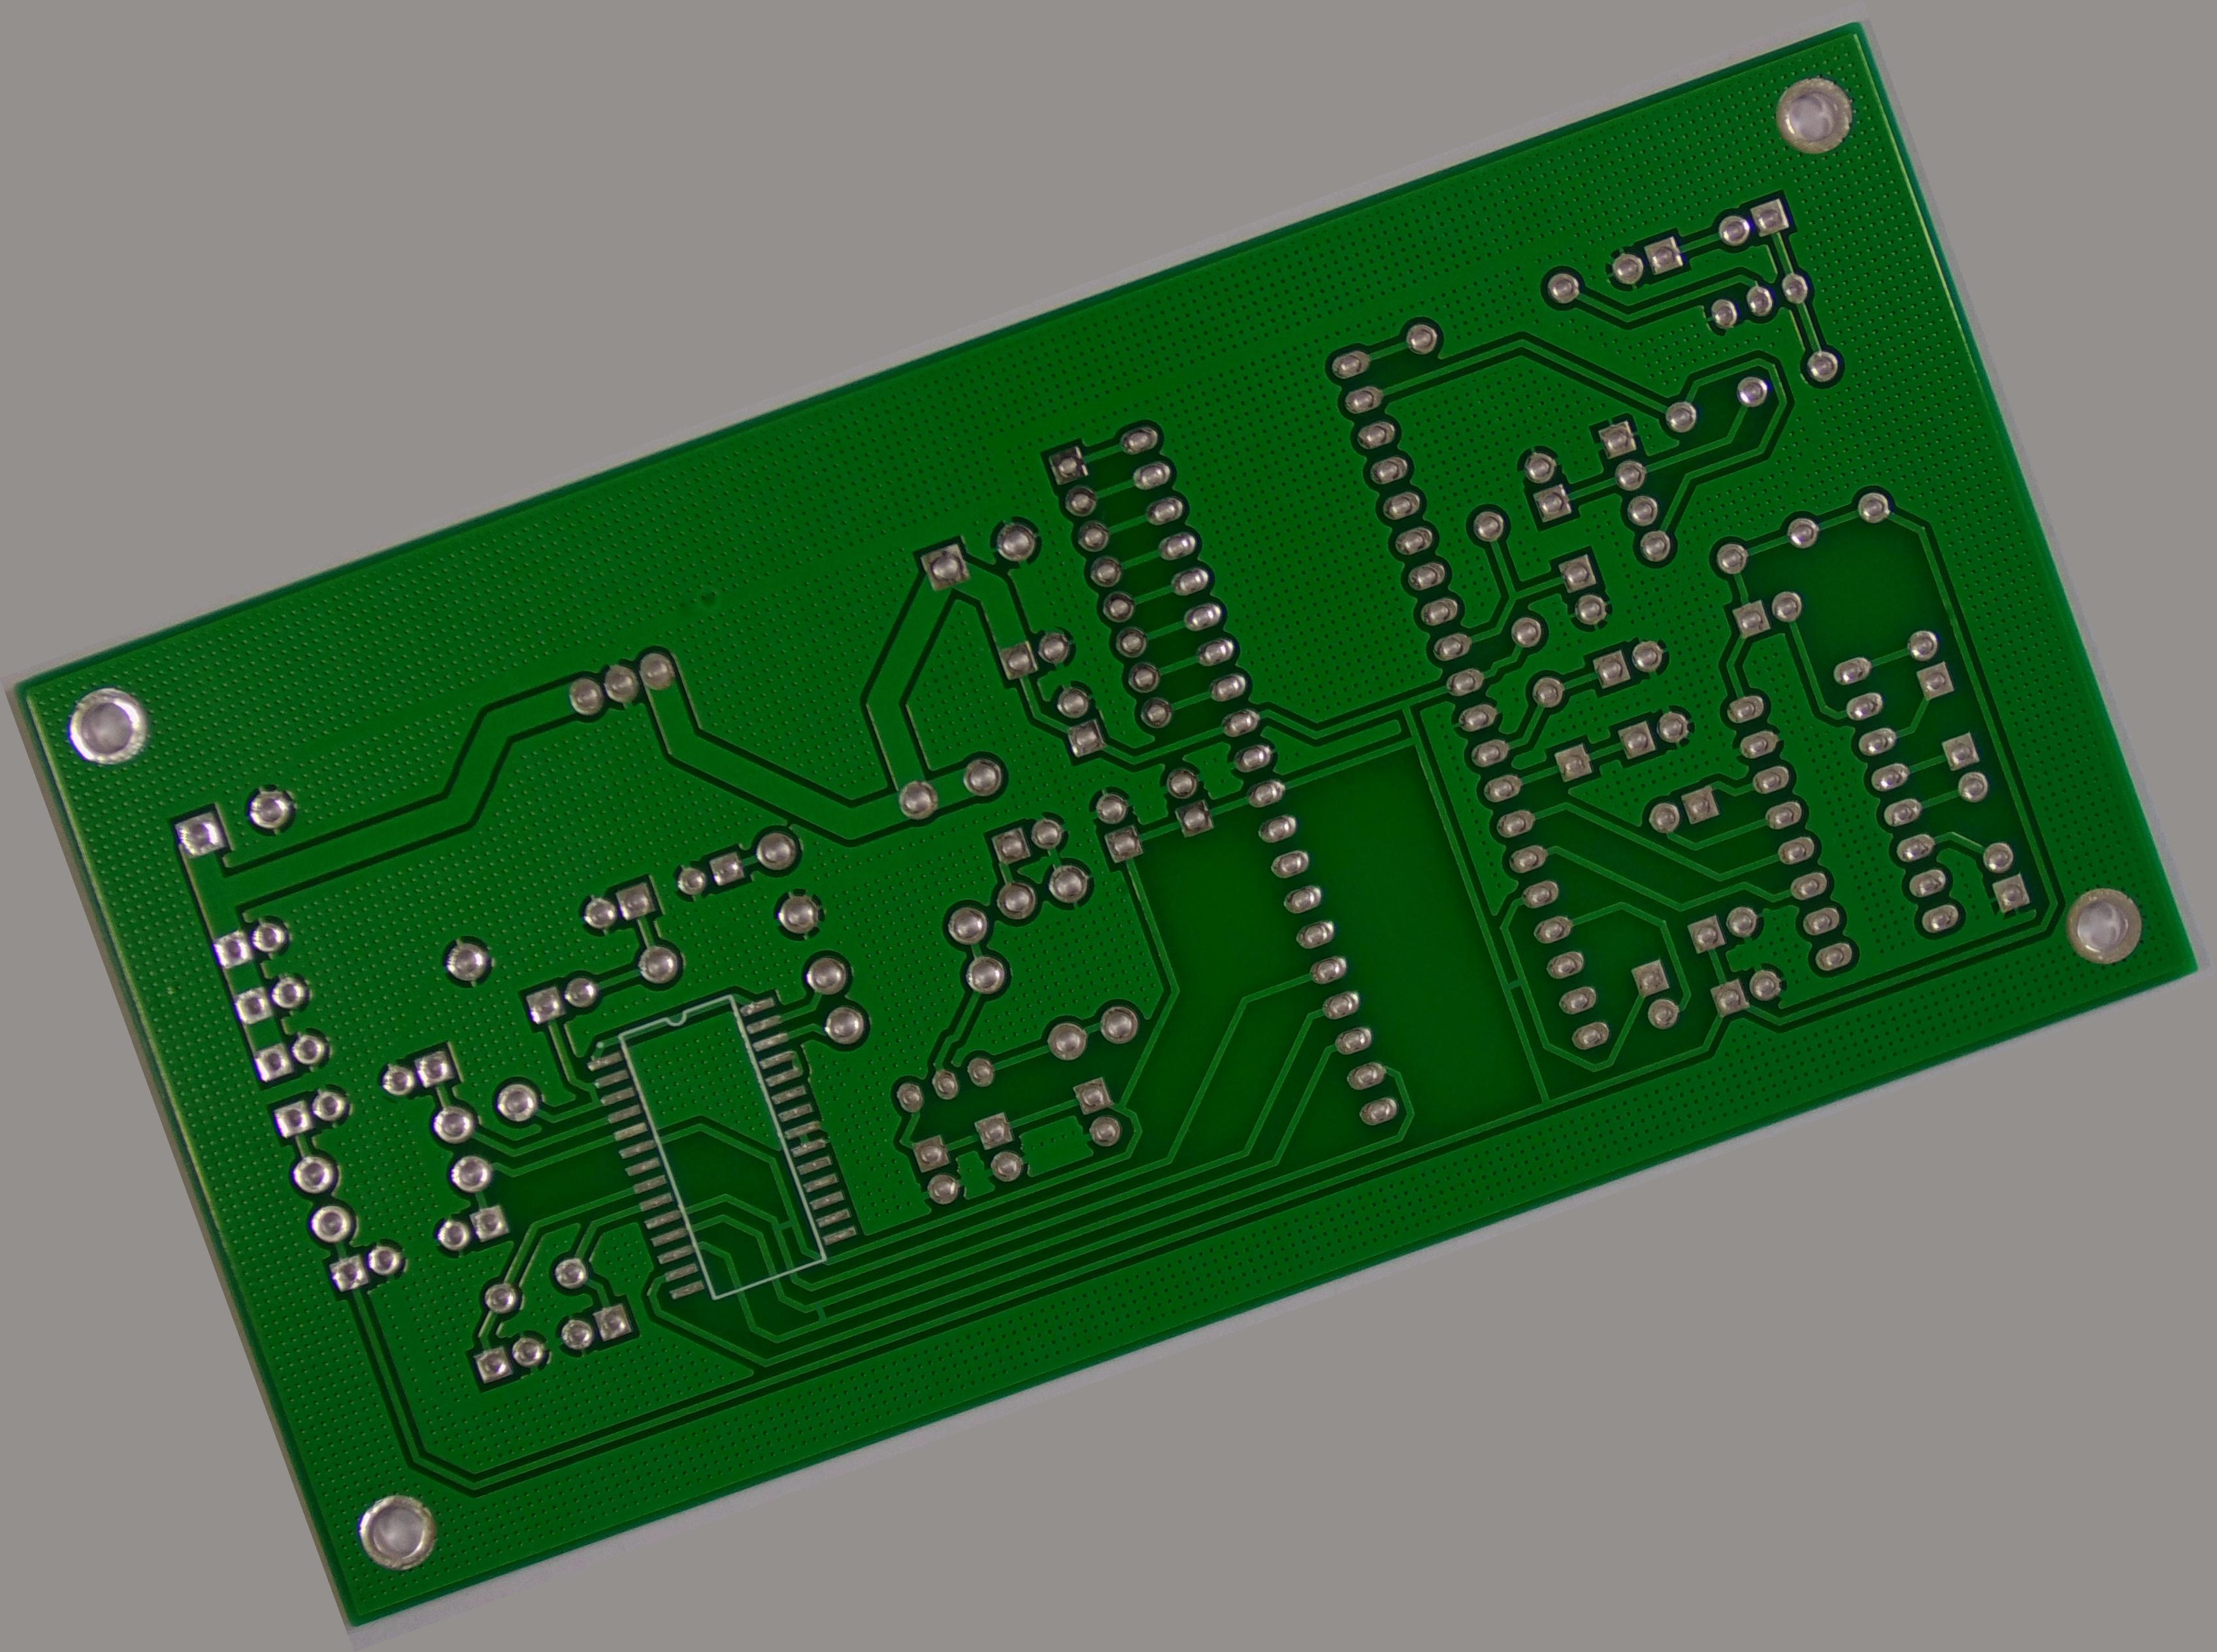short: (1488, 958, 1546, 1008), (755, 1199, 808, 1249), (795, 1291, 843, 1336), (578, 1078, 607, 1107)
